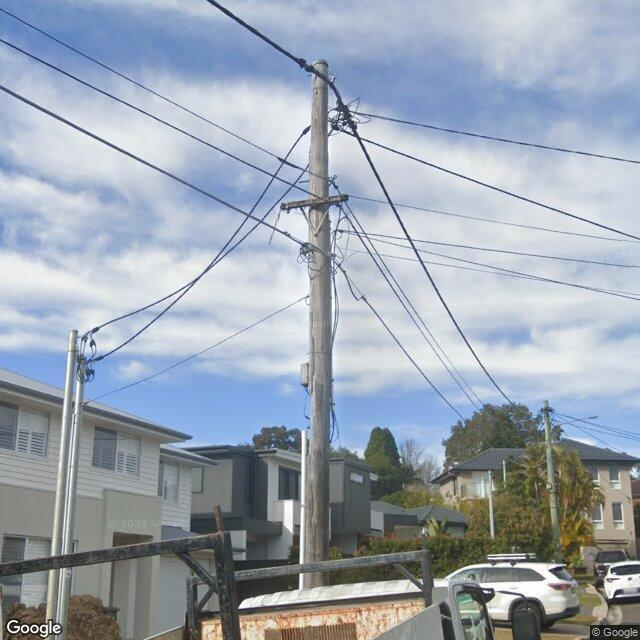crossarm: (278, 194, 350, 212)
steel-pole: (42, 329, 78, 640), (54, 356, 86, 640), (487, 470, 495, 538), (503, 460, 506, 490)
streetlight: (545, 414, 598, 438)
timber-pole: (296, 61, 330, 591), (540, 402, 562, 565)
